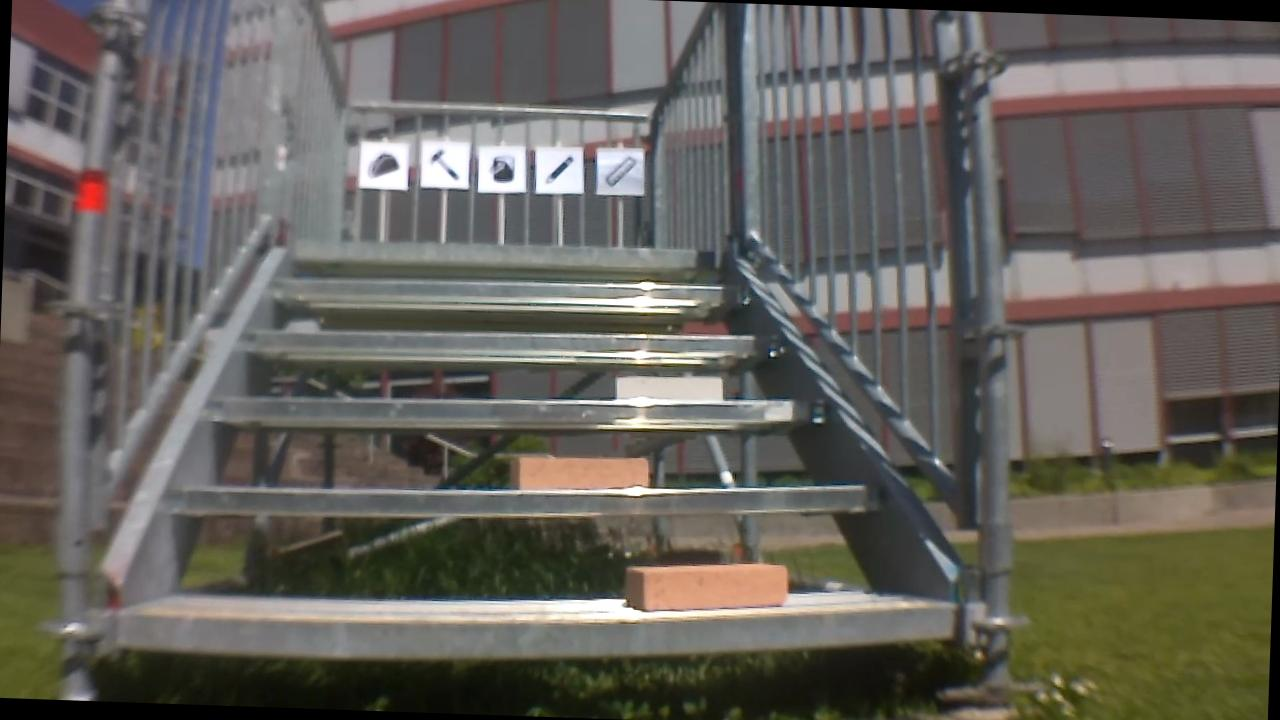brick: (610, 554, 796, 622), (494, 449, 654, 501), (607, 373, 724, 406)
bucket: (487, 154, 521, 182)
edge: (114, 569, 965, 677), (168, 460, 885, 540), (209, 375, 830, 446), (238, 312, 784, 371), (265, 263, 752, 320), (285, 232, 718, 273)
hammer: (421, 144, 461, 185)
pencil: (543, 154, 575, 189)
ruler: (602, 155, 640, 191)
steps: (91, 224, 978, 679)
taco: (370, 155, 399, 179)
